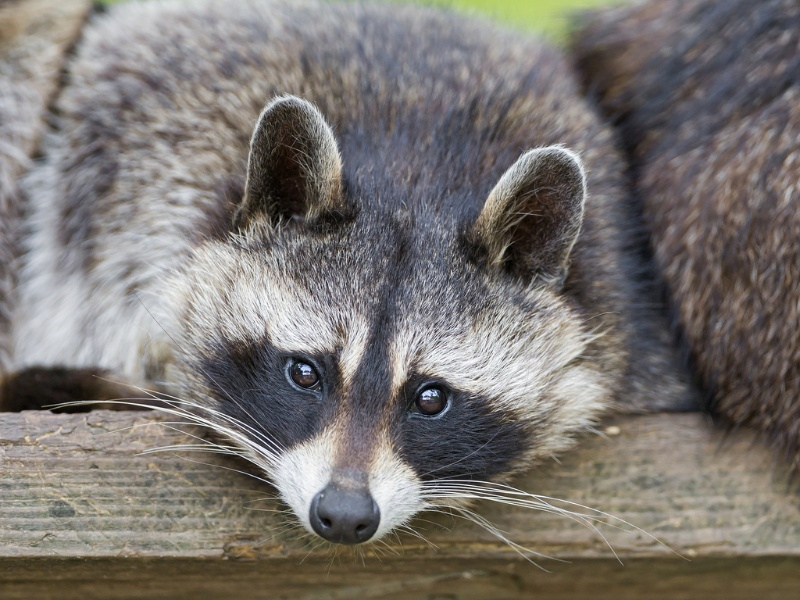raccoon: (51, 7, 708, 552)
